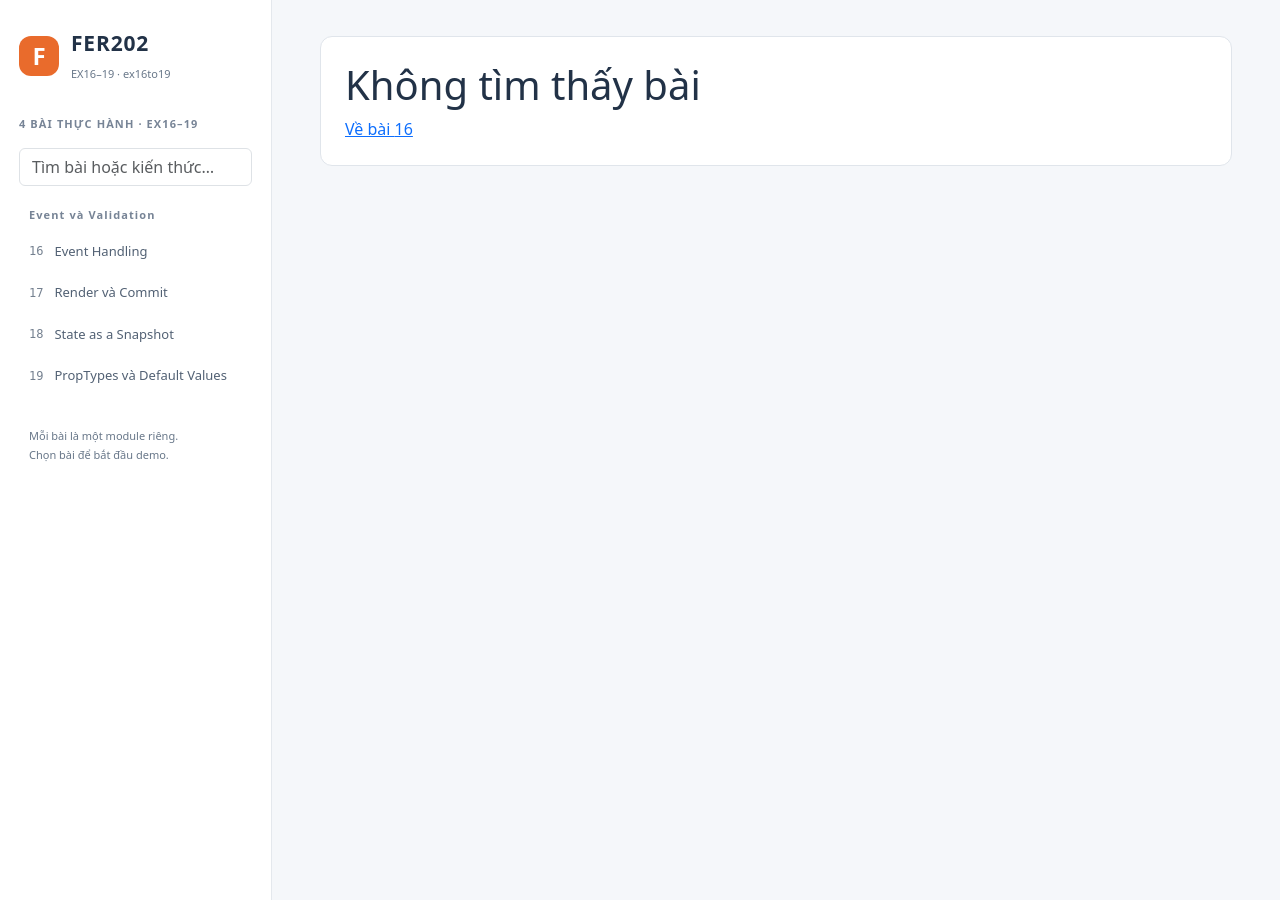
Test case: route ngoài nhóm có liên kết quay về bài đầu
Expected: the heading "Không tìm thấy bài" is shown, [345, 57, 701, 112]
Click the link "Về bài 16". click: (370, 129)
box: [345, 118, 413, 140]
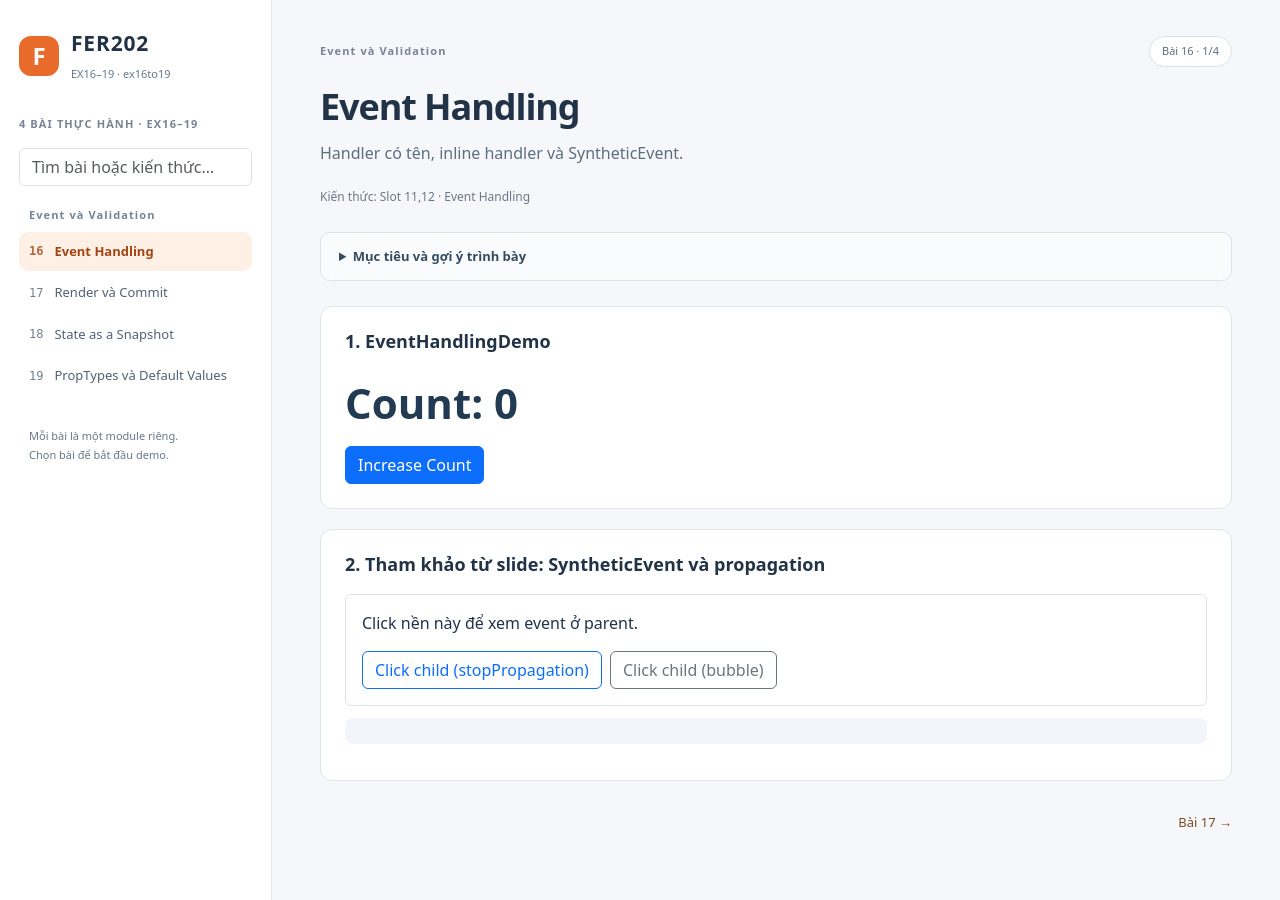
Now the heading "Event Handling" is shown, box [320, 82, 580, 130]
